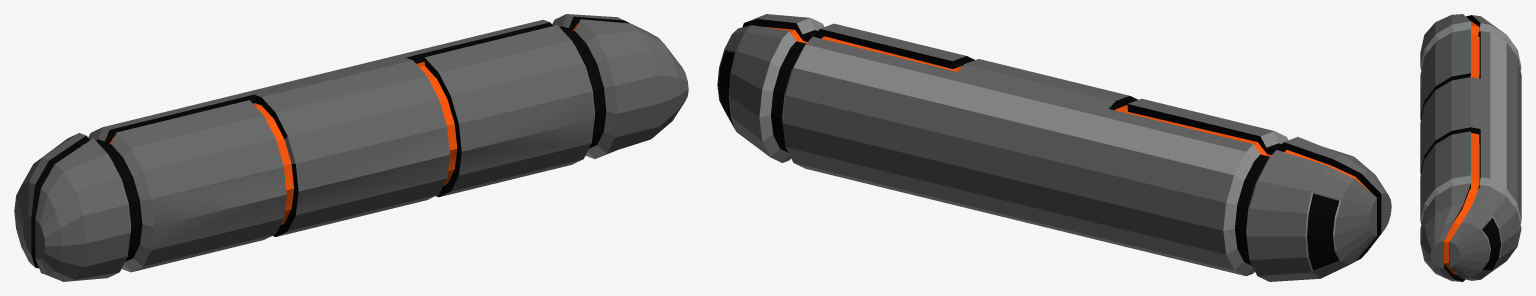
Rendered from paddle_laser.glb.
3 renders of one model, left to right at view 1: azimuth 30°, elevation 25°; view 2: azimuth 150°, elevation 25°; view 3: azimuth 270°, elevation 25°, orthographic. The views are drawn at different scales.
Visible parts, largest first — view 1: 0paddle; view 2: 0paddle, L_black, R_black; view 3: 0paddle, R_black.
Boxes of the visible parts, x1=… form: 0paddle: x1=14, y1=14, x2=688, y2=281; 0paddle: x1=717, y1=14, x2=1391, y2=281; L_black: x1=1308, y1=194, x2=1339, y2=269; R_black: x1=719, y1=51, x2=734, y2=119; 0paddle: x1=1420, y1=14, x2=1521, y2=281; R_black: x1=1482, y1=219, x2=1498, y2=270.
Bounding box in the file's own units: 0.3 × 0.06 × 0.06.
Materials: 1 (1 with a texture image).
